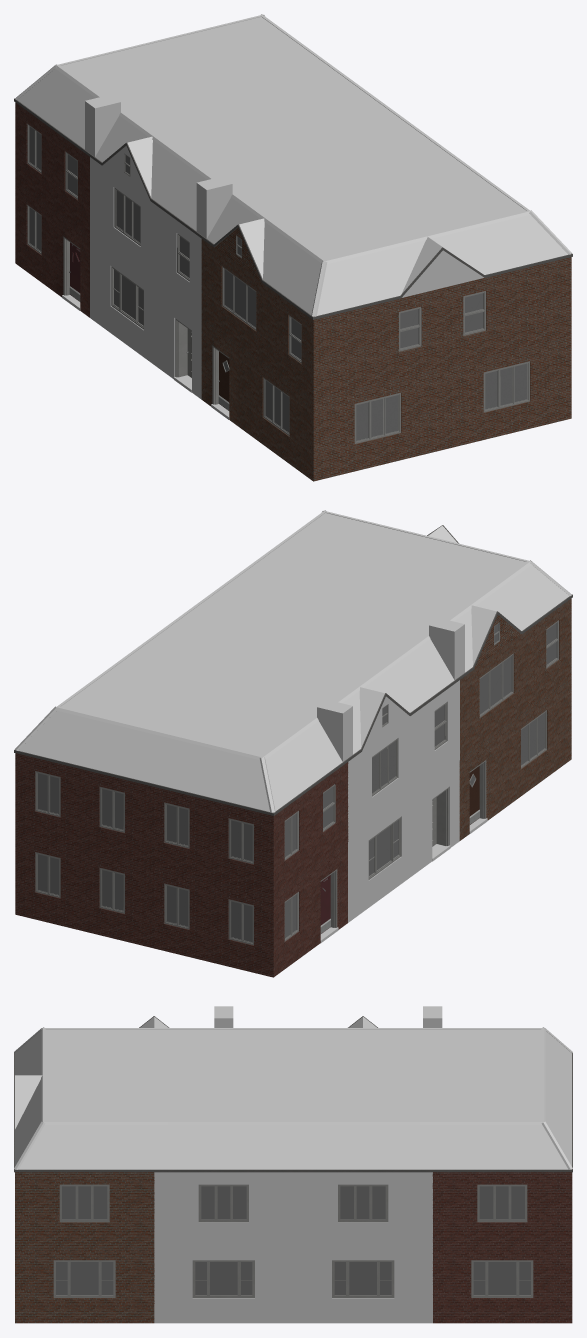
Rendered from SM_Bp_Building02_C_1.gltf.
The picture shows the model from 3 angles, top to bottom: view 1: azimuth 30°, elevation 25°; view 2: azimuth 150°, elevation 25°; view 3: azimuth 270°, elevation 25°; orthographic projection. The views are drawn at different scales.
Parts seen in each view (by area): view 1: SM_Bp_Building02_C_1_Merged; view 2: SM_Bp_Building02_C_1_Merged; view 3: SM_Bp_Building02_C_1_Merged.
Part boxes in pixels (x1,y1,x2,y2): SM_Bp_Building02_C_1_Merged: [14, 14, 572, 481]; SM_Bp_Building02_C_1_Merged: [14, 510, 572, 977]; SM_Bp_Building02_C_1_Merged: [14, 1006, 572, 1323].
Size of the model in its own units: 10.07 by 7.9 by 20.07.
